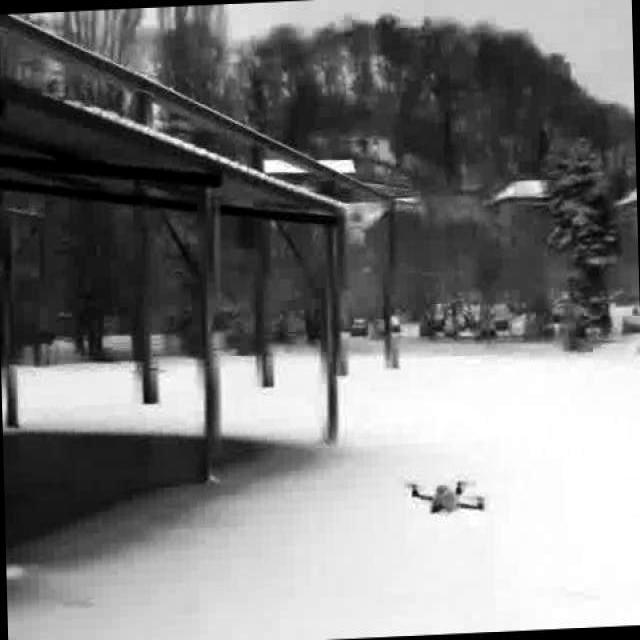drone: (392, 462, 497, 530)
